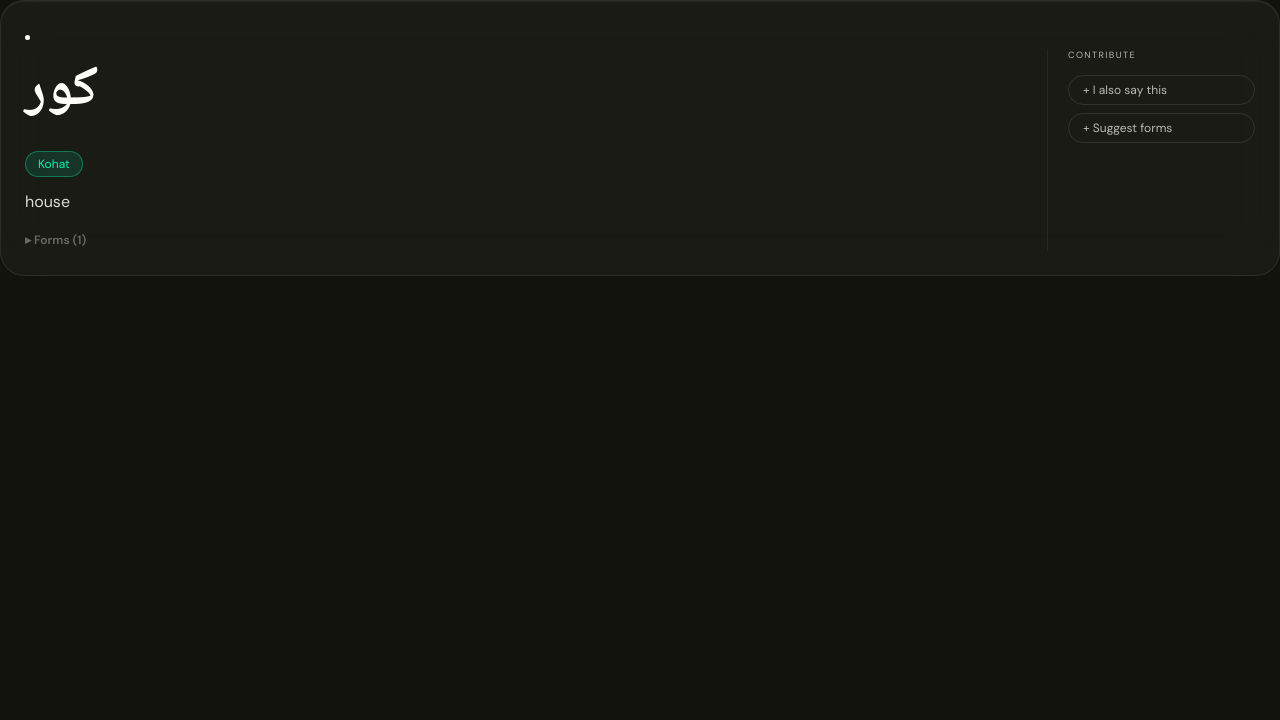
Test: Suggest forms on the concept page › shows the server message when the suggestion is refused
Click the button "+ Suggest forms": (1162, 128) [1068, 112, 1255, 142]
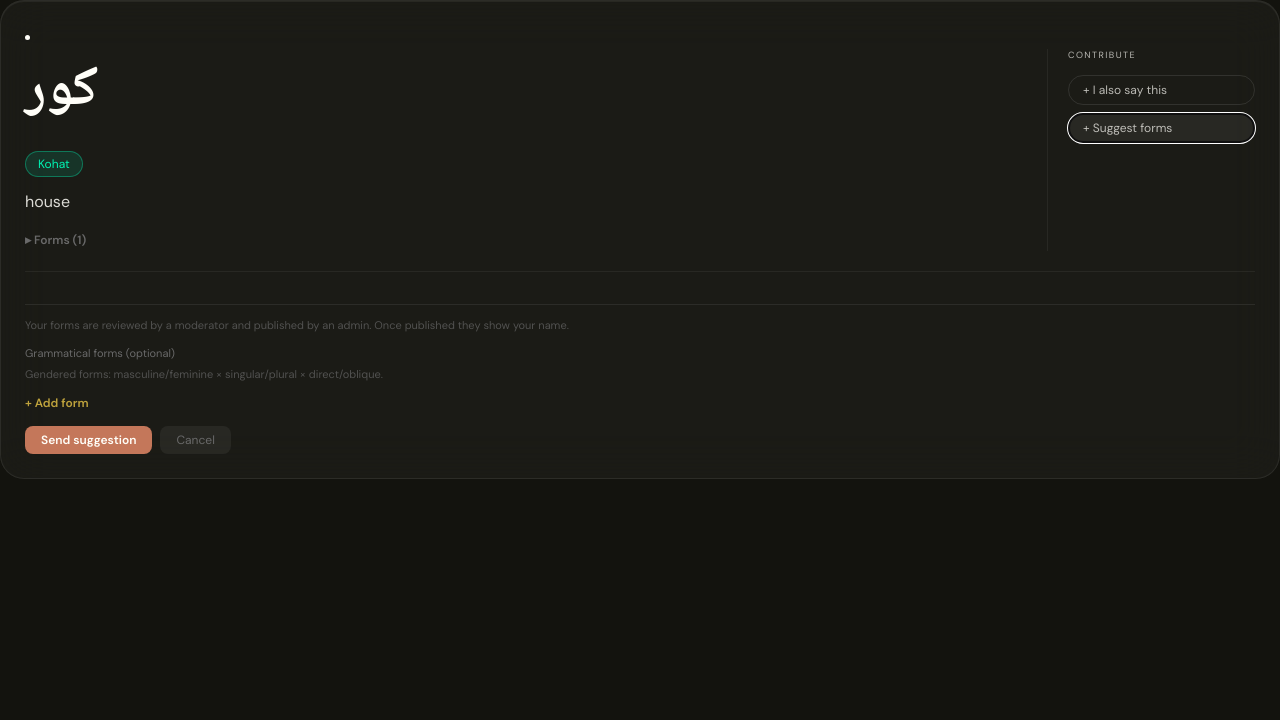
Click the button "+ Add form": (57, 403) [25, 395, 88, 411]
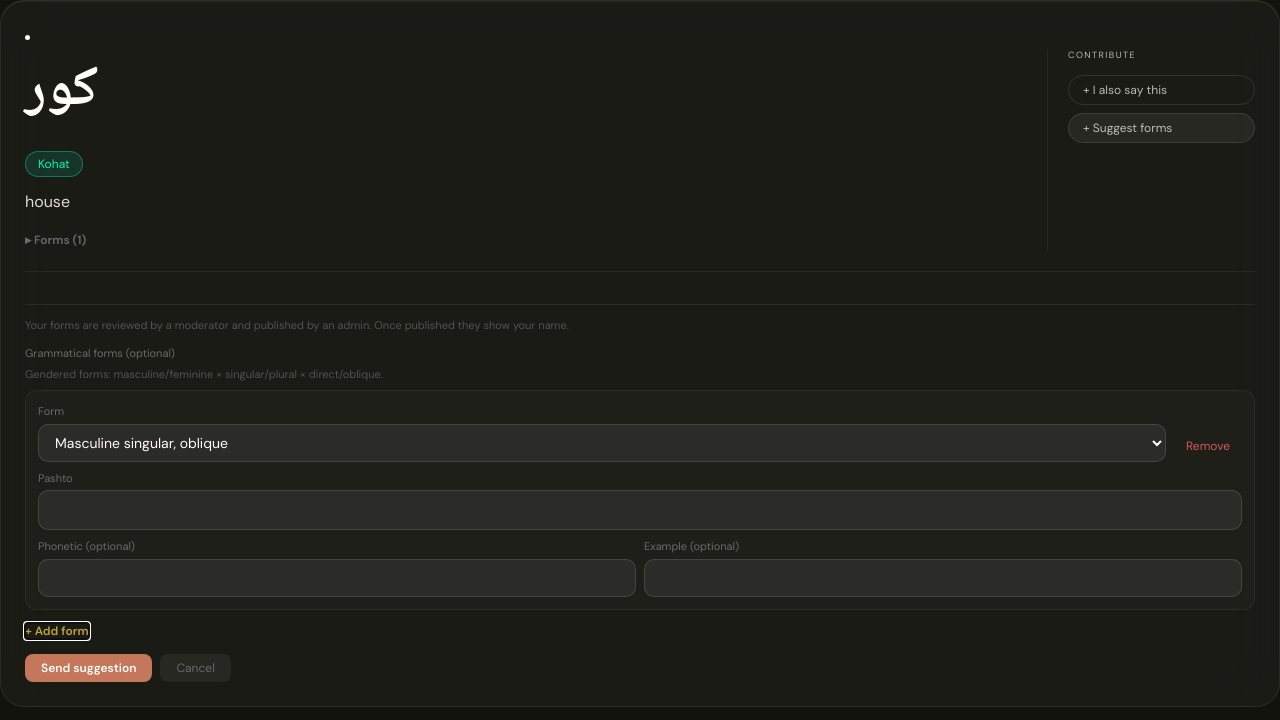
In the field labelled "Pashto": (640, 510) [38, 490, 1242, 530], type "کورونه"
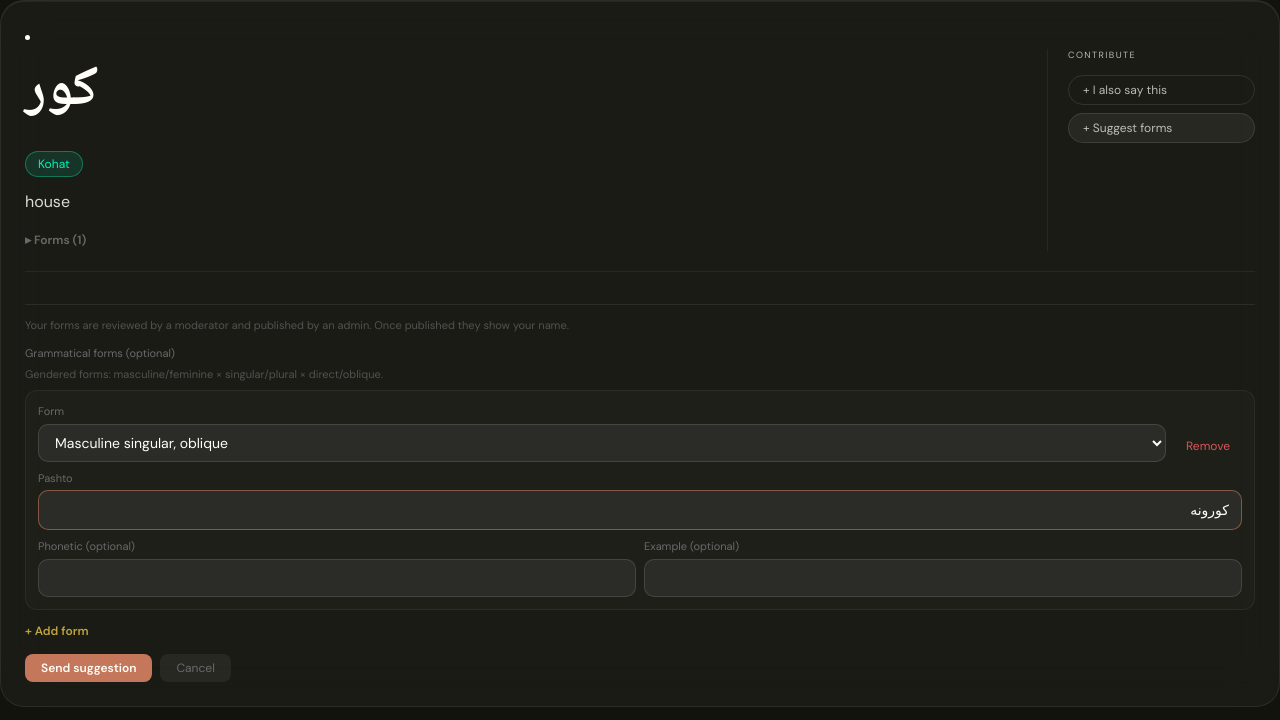
Click the button "Send suggestion": (89, 668) [25, 654, 152, 682]
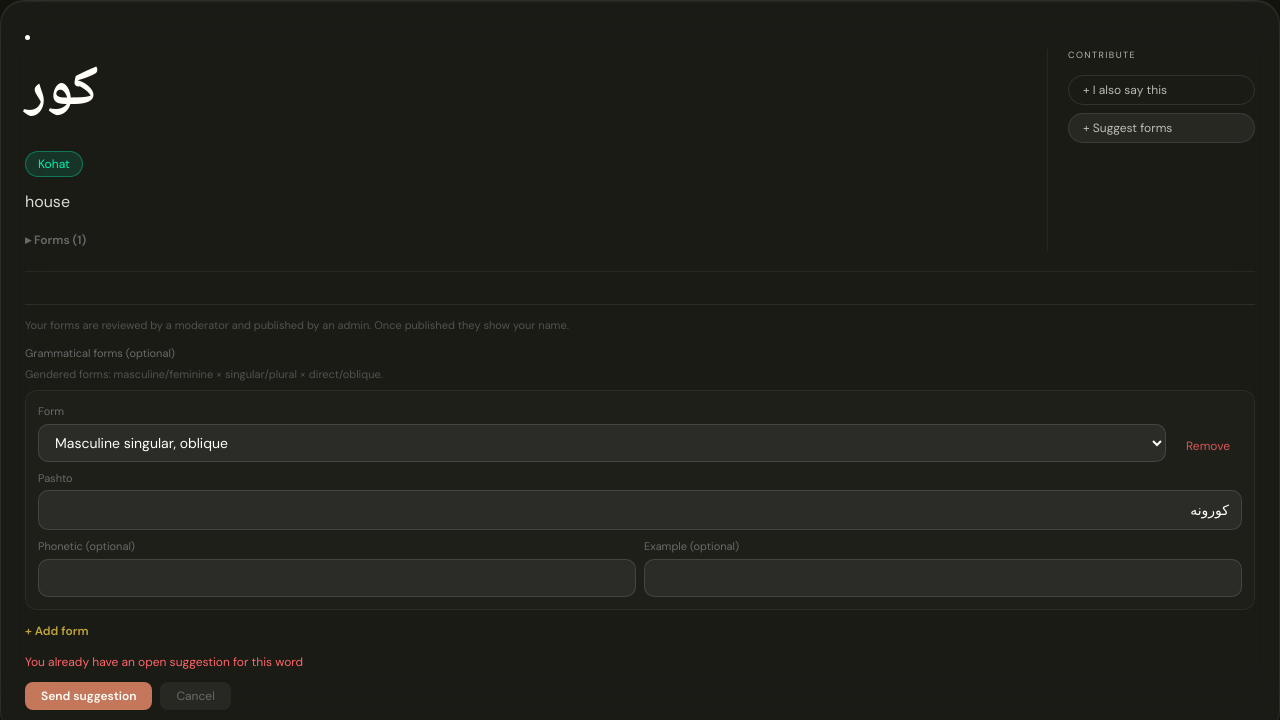
Expected: the message reads "You already have an open suggestion for this word", [25, 654, 303, 670]
